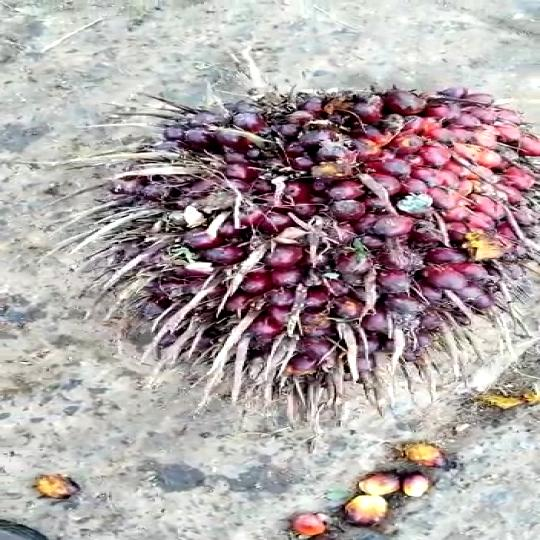masak: (103, 85, 540, 401)
